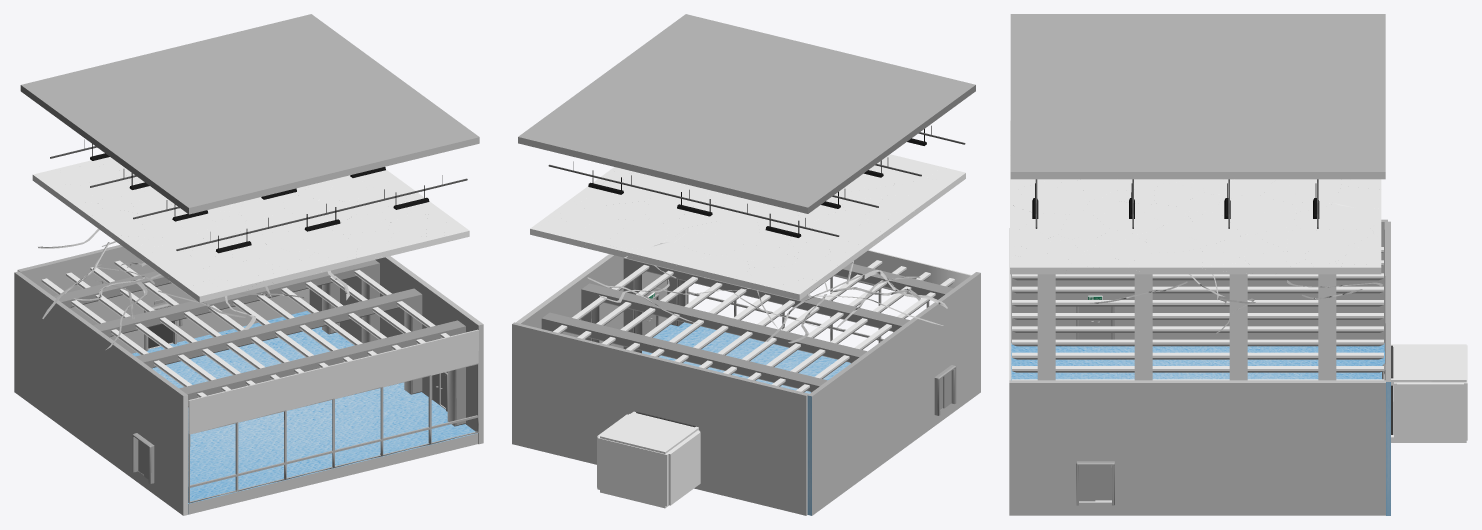
Rendered from VR_build.fbx.
The picture shows the model from 3 angles, left to right: view 1: azimuth 30°, elevation 25°; view 2: azimuth 150°, elevation 25°; view 3: azimuth 270°, elevation 25°; orthographic projection. The views are drawn at different scales.
Parts seen in each view (by area): view 1: Library__1_, UnCracked, Roof__1_, pillar__3_, pillar__2_, pillar__1_, pillar, Cracked_ceiling_cell_145.001, Cracked_ceiling_cell_117.001, Iron_frame__4_, Cracked_ceiling_cell_157.001, Cracked_ceiling_cell_044.001 (+16 smaller); view 2: Library__1_, UnCracked, Roof__1_, Elevator__1_, pillar__1_, pillar, pillar__2_, pillar__3_, Cracked_ceiling_cell_120.001, Cracked_ceiling_cell_009.001, Cracked_ceiling_cell_046.001, Cracked_ceiling_cell_108.001 (+18 smaller); view 3: Library__1_, UnCracked, Roof__1_, Elevator__1_, pillar__3_, pillar__2_, pillar, pillar__1_, Cracked_ceiling_cell_120.001, Cracked_ceiling_cell_151.001, Cracked_ceiling_cell_046.001, Cracked_ceiling_cell_145.001 (+30 smaller).
Boxes of the visible parts, box(x1,y1,x2,y2) form: Library__1_: box(14, 244, 483, 515); UnCracked: box(20, 14, 479, 214); Roof__1_: box(41, 259, 449, 397); pillar__3_: box(179, 320, 465, 426); pillar__2_: box(135, 288, 422, 394); pillar__1_: box(93, 260, 379, 343); pillar: box(53, 271, 339, 334); Cracked_ceiling_cell_145.001: box(308, 232, 357, 258); Cracked_ceiling_cell_117.001: box(208, 262, 263, 289); Iron_frame__4_: box(176, 175, 467, 250); Cracked_ceiling_cell_157.001: box(60, 166, 113, 184); Cracked_ceiling_cell_044.001: box(141, 211, 182, 237); Library__1_: box(512, 250, 980, 515); UnCracked: box(518, 14, 975, 213); Roof__1_: box(553, 259, 954, 392); Elevator__1_: box(597, 411, 700, 508); pillar__1_: box(581, 283, 867, 363); pillar: box(541, 312, 827, 392); pillar__2_: box(623, 257, 909, 353); pillar__3_: box(667, 263, 953, 326); Cracked_ceiling_cell_120.001: box(606, 219, 669, 257); Cracked_ceiling_cell_009.001: box(674, 232, 739, 255); Cracked_ceiling_cell_046.001: box(645, 198, 699, 225); Cracked_ceiling_cell_108.001: box(638, 242, 696, 269); Library__1_: box(1009, 219, 1390, 515); UnCracked: box(1010, 14, 1385, 179); Roof__1_: box(1012, 247, 1383, 380); Elevator__1_: box(1382, 344, 1467, 442); pillar__3_: box(1037, 274, 1055, 380); pillar__2_: box(1134, 274, 1152, 380); pillar: box(1318, 274, 1336, 380); pillar__1_: box(1229, 274, 1247, 380); Cracked_ceiling_cell_120.001: box(1293, 205, 1375, 230); Cracked_ceiling_cell_151.001: box(1128, 252, 1203, 274); Cracked_ceiling_cell_046.001: box(1222, 211, 1296, 234); Cracked_ceiling_cell_145.001: box(1013, 192, 1086, 214).
Bounding box in the file's own units: 7383 × 6087 × 7393.
